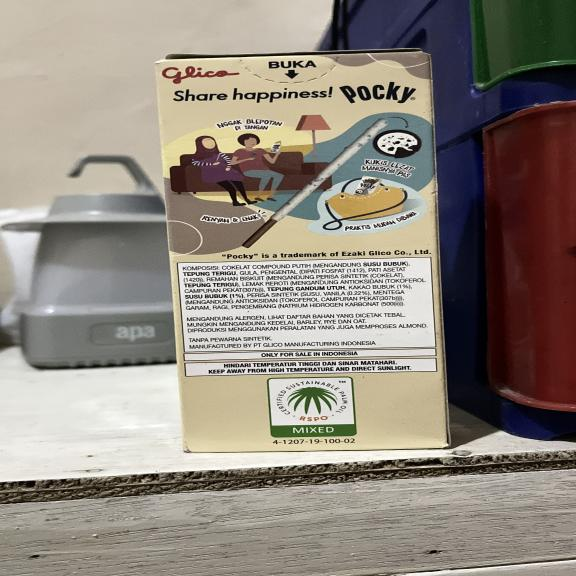Kertas: (155, 51, 452, 454)
